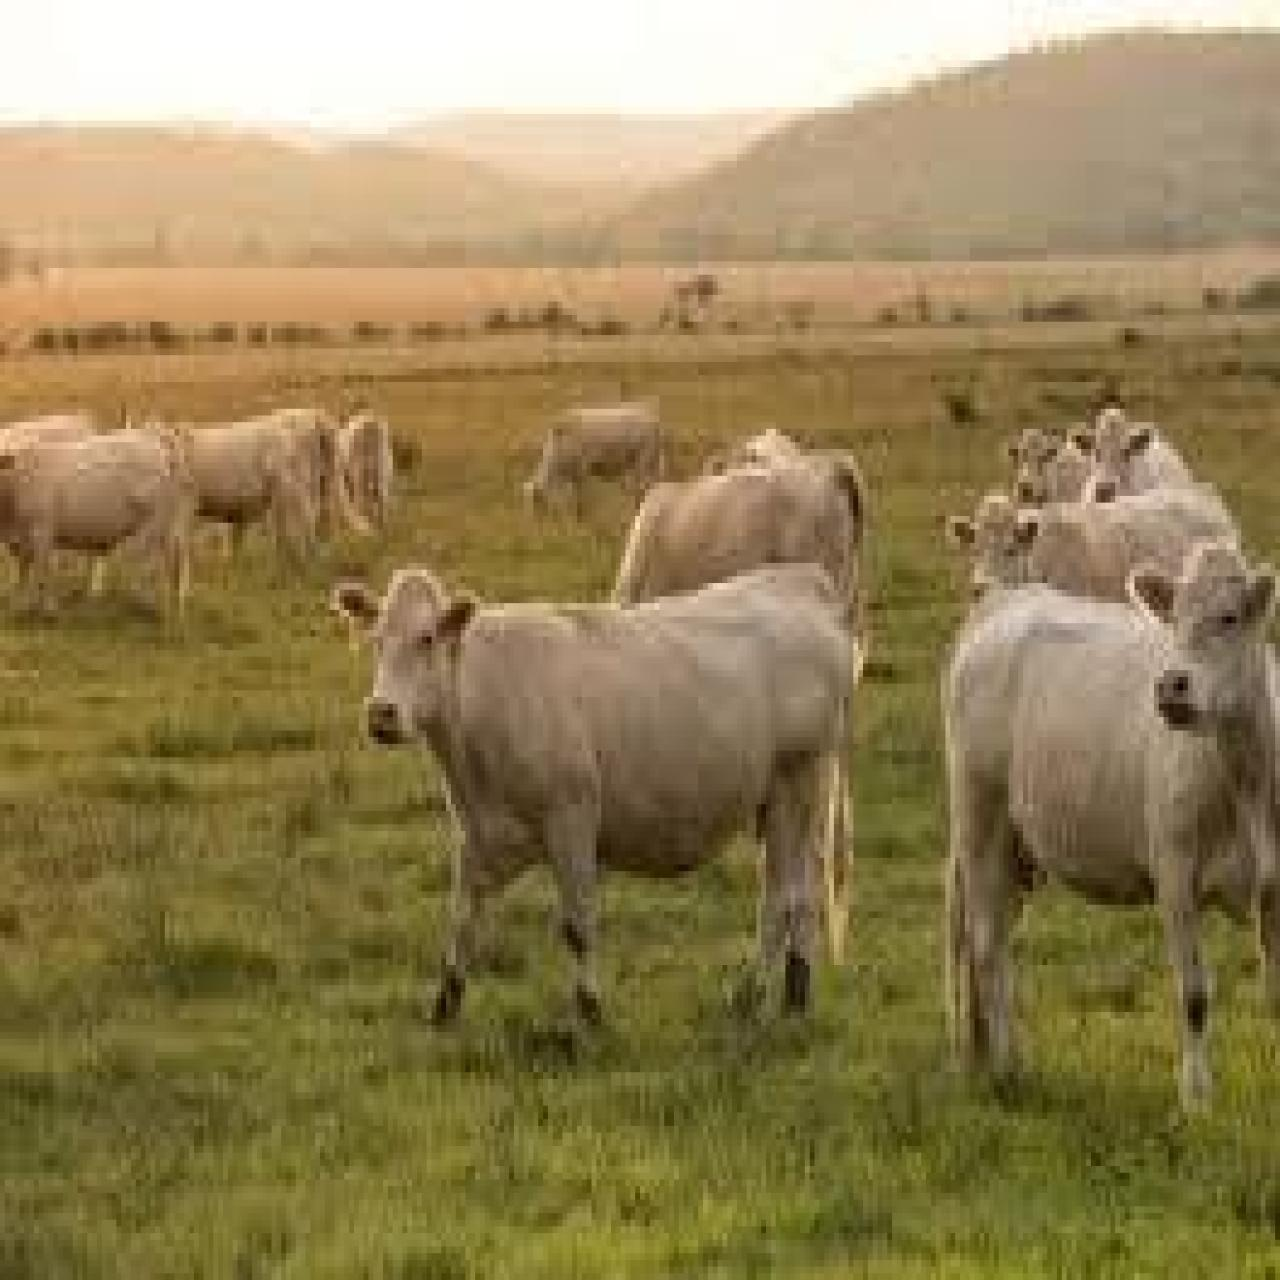cow: (332, 573, 851, 1022), (945, 546, 1280, 1109), (608, 459, 860, 607), (951, 489, 1232, 610), (0, 436, 184, 617), (127, 415, 306, 570), (526, 406, 667, 533)
